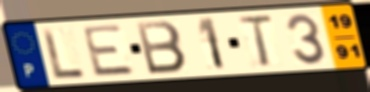1: (197, 15, 228, 73)
3: (283, 12, 329, 66)
B: (134, 19, 190, 76)
E: (79, 23, 138, 79)
L: (39, 26, 88, 82)
T: (234, 13, 276, 70)
